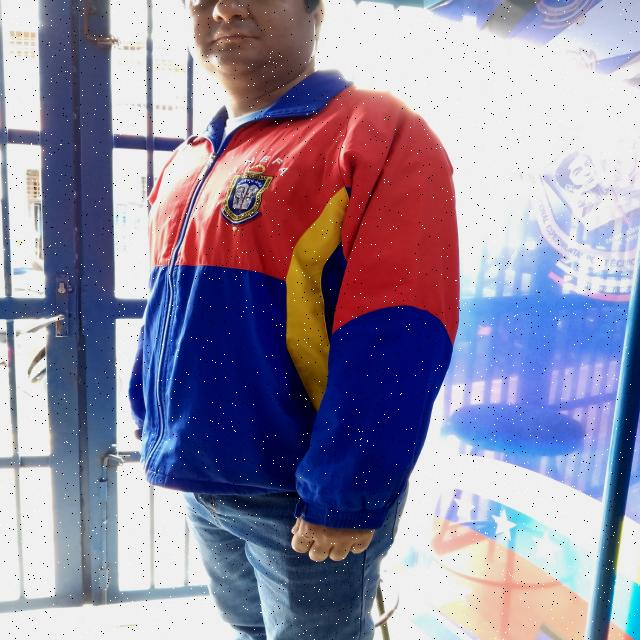chaqueta_unefa: (127, 71, 460, 529)
